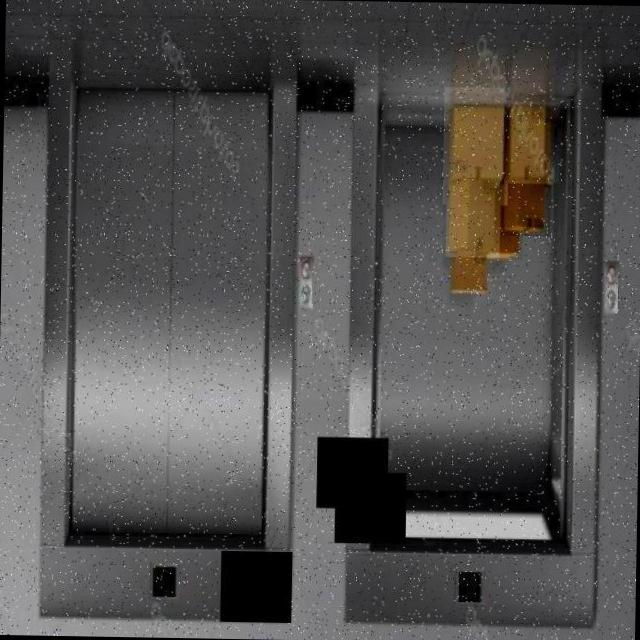box: (442, 86, 509, 205), (445, 170, 500, 258), (506, 100, 560, 184), (501, 169, 551, 236), (450, 236, 496, 302), (495, 213, 523, 260)
